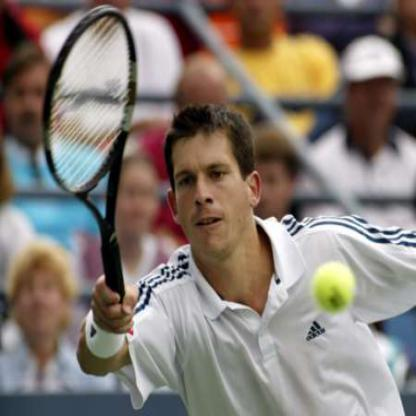face: (170, 108, 252, 259), (4, 47, 56, 144), (14, 248, 68, 338), (348, 41, 398, 131), (244, 137, 292, 225), (113, 156, 161, 237)
